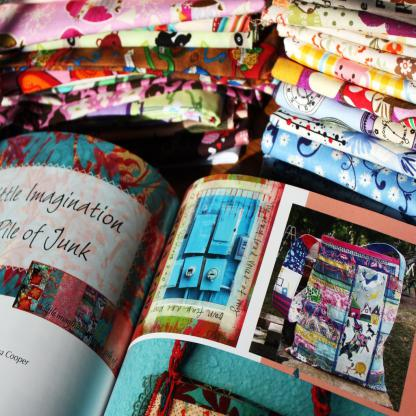book: (0, 132, 416, 416)
